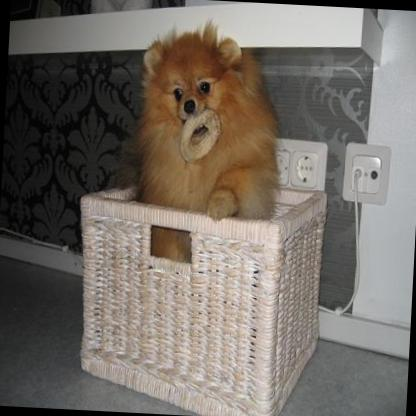Pomeranian: (129, 13, 288, 268)
